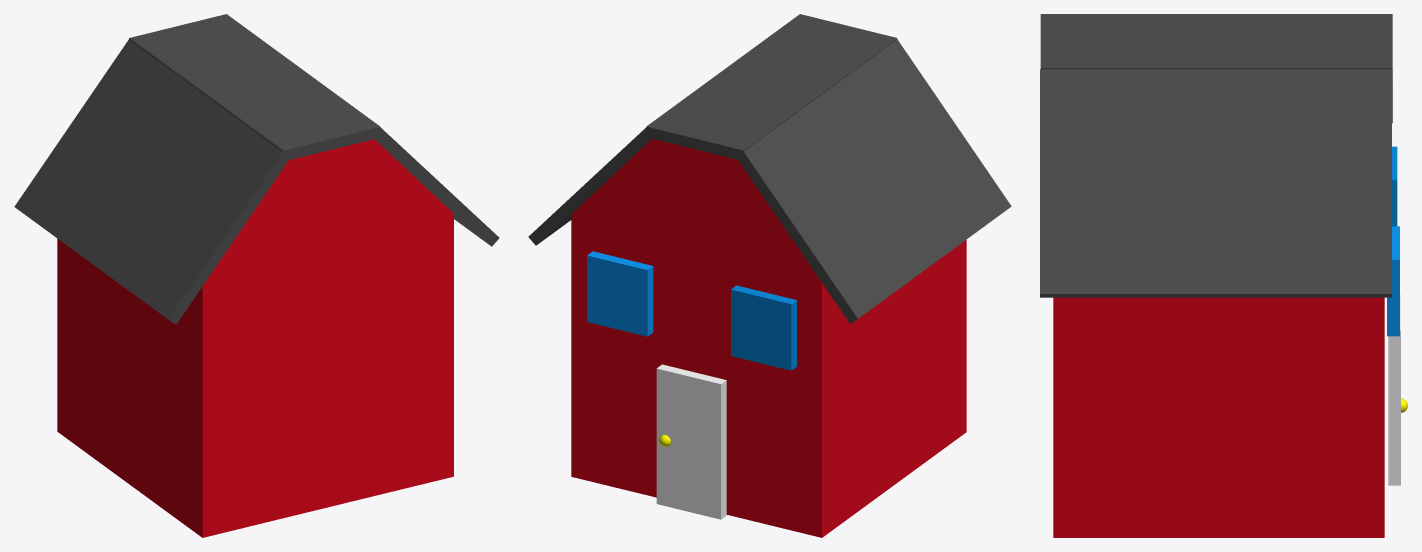
File: House3.fbx
The picture shows the model from 3 angles, left to right: view 1: azimuth 30°, elevation 25°; view 2: azimuth 150°, elevation 25°; view 3: azimuth 270°, elevation 25°; orthographic projection. The views are drawn at different scales.
Visible parts, largest first — view 1: Cube, Cube.001; view 2: Cube, Cube.001, Cube.002, Cube.003, Cube.004; view 3: Cube.001, Cube, Cube.002, Cube.003, Cube.004.
Part boxes in pixels (x1,y1,x2,y2): Cube: (57, 139, 453, 537); Cube.001: (14, 14, 499, 324); Cube: (571, 138, 966, 537); Cube.001: (528, 14, 1011, 323); Cube.002: (656, 364, 726, 519); Cube.003: (587, 251, 653, 336); Cube.004: (731, 285, 796, 370); Cube.001: (1040, 14, 1392, 297); Cube: (1053, 297, 1384, 537); Cube.002: (1388, 294, 1400, 485); Cube.003: (1387, 226, 1399, 336); Cube.004: (1392, 146, 1397, 226).
Bounding box in the file's own units: 681 × 734 × 574.
